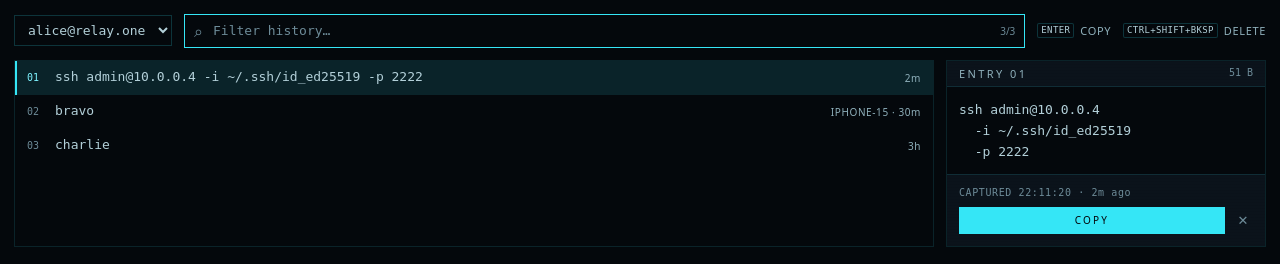
Test case: HistorySection — keyboard, fired from inside the filter › clears the query on Meta+Backspace and deletes nothing
The image size is (1280, 264).
Type "entry" into the field labelled "Filter history".
click(605, 31); type("entry")  # box x1=184 y1=14 x2=1025 y2=48
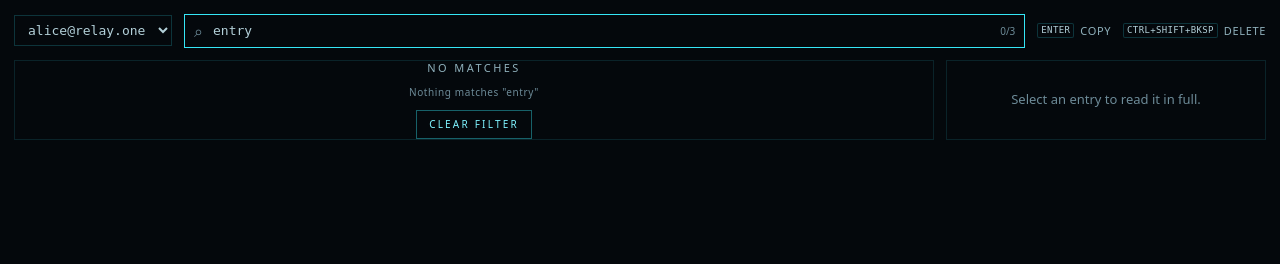
Press Backspace in the field named "Filter history", box x1=184 y1=14 x2=1025 y2=48
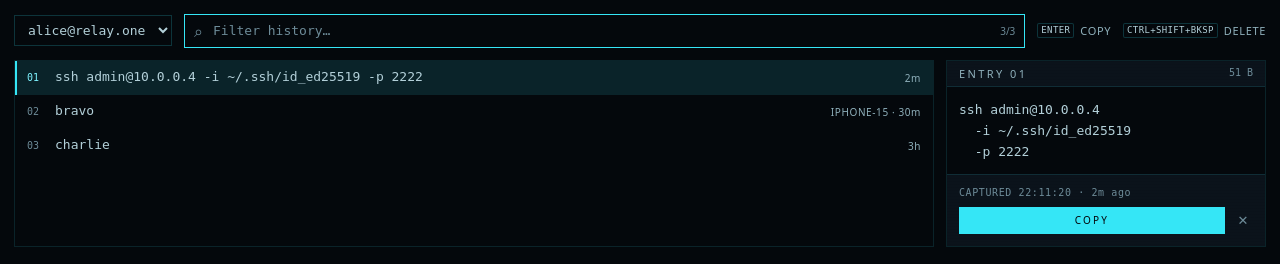
Result: the field labelled "Filter history" is empty at x1=184 y1=14 x2=1025 y2=48
Result: the number of list items with test id "entry-row" is 3 at x1=15 y1=60 x2=933 y2=94; x1=27 y1=103 x2=921 y2=118; x1=27 y1=137 x2=921 y2=152
